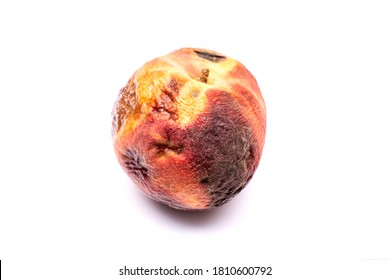peach: (111, 48, 267, 213)
rotten: (191, 92, 260, 208), (112, 75, 144, 134), (117, 144, 156, 188)
